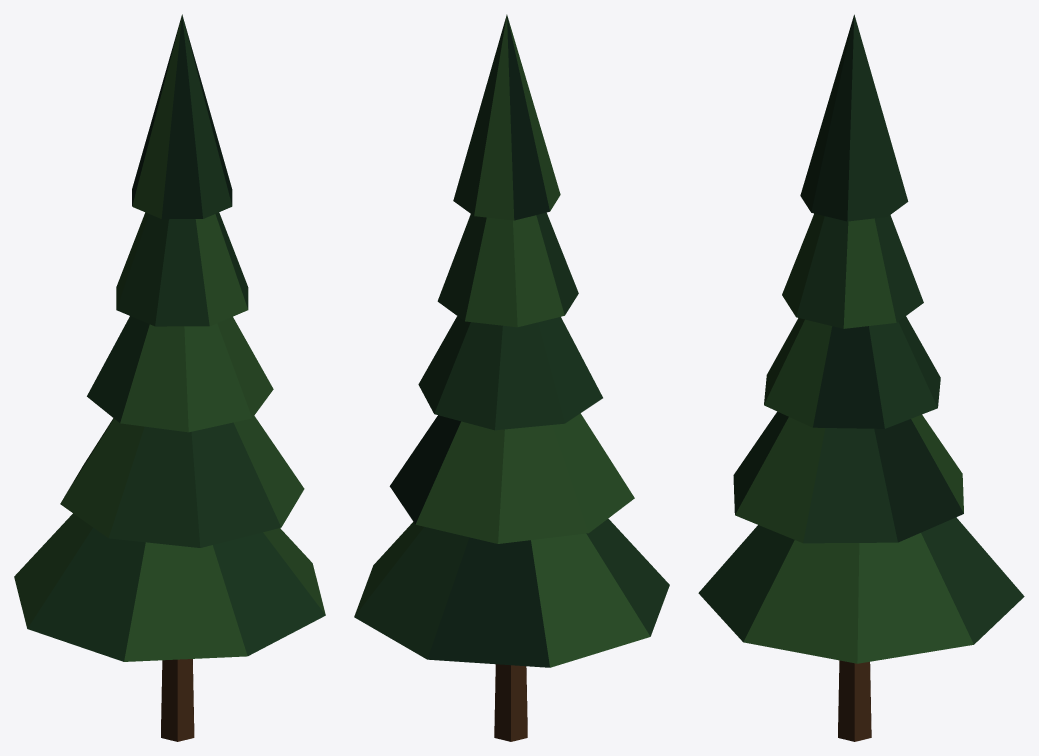
Rendered from pine_2.gltf.
3 renders of one model, left to right at view 1: azimuth 30°, elevation 25°; view 2: azimuth 150°, elevation 25°; view 3: azimuth 270°, elevation 25°, orthographic.
Bounding box in the file's own units: 5.4 × 13.18 × 5.4.
